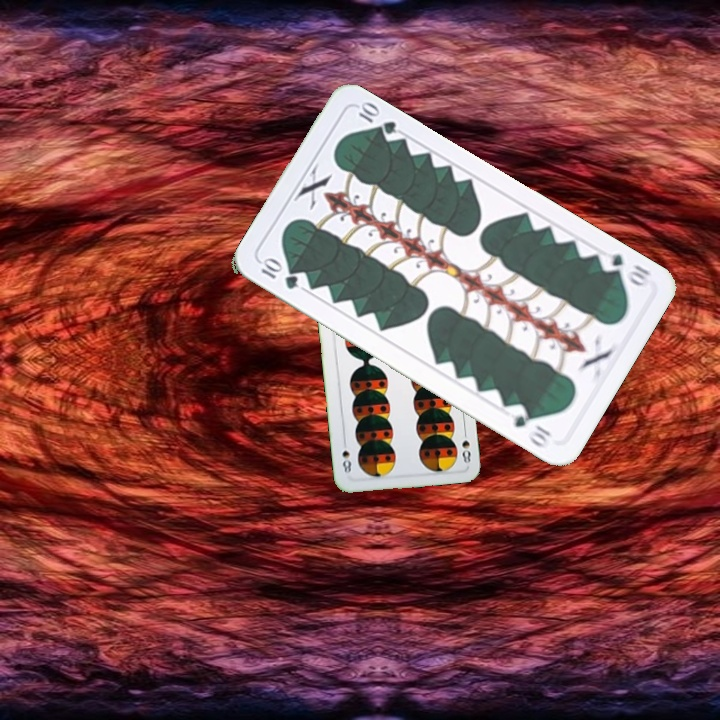G10: (595, 247, 653, 289), (257, 254, 301, 292)
S8: (458, 425, 473, 466)
